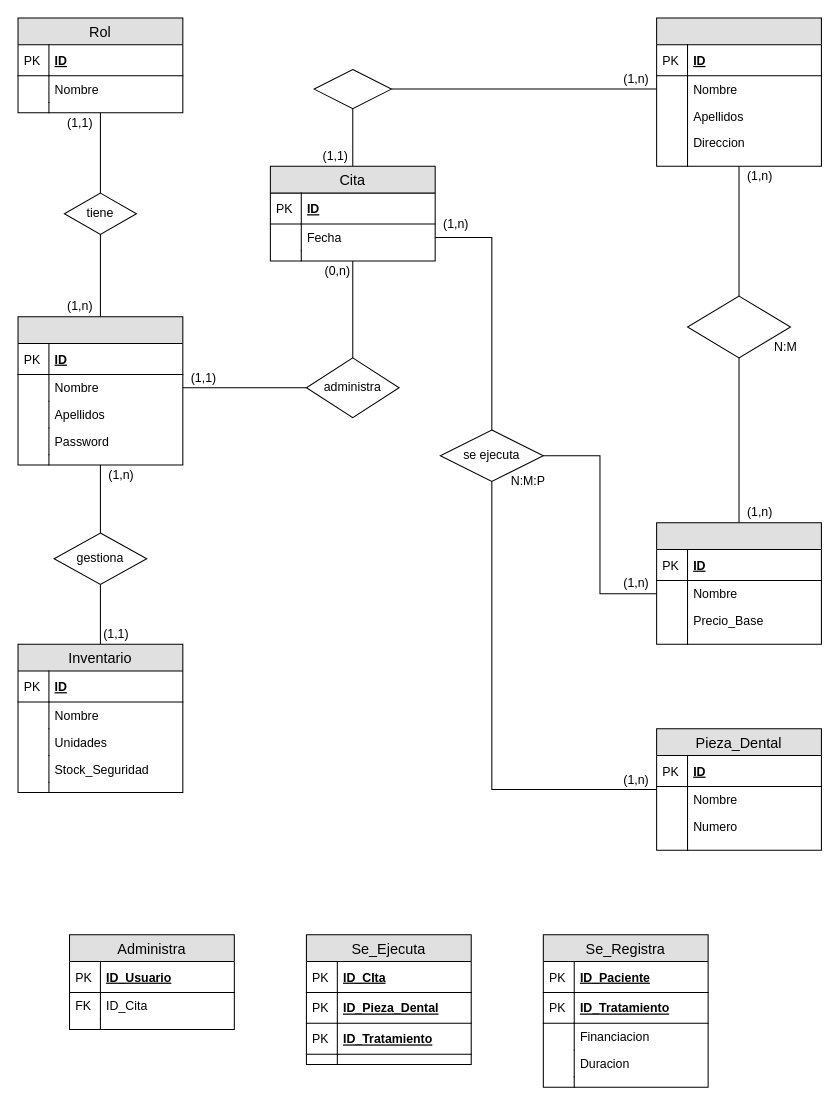
This 839x1105 diagram has some shape labels left out. Here are the shapes that lost their labels. From the top down, the box of each, then its label:
(313, 68, 391, 109): asiste
(656, 17, 821, 166): Paciente
(686, 295, 791, 358): se registra
(17, 316, 183, 465): Usuario
(656, 522, 821, 644): Tratamiento_Base
